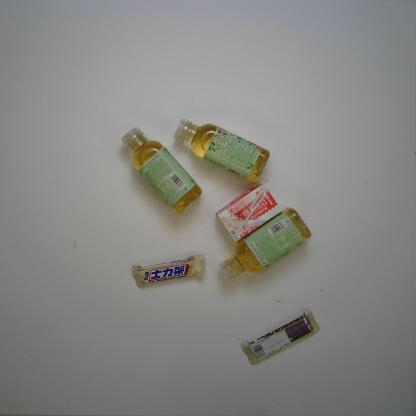Chocolate: (236, 306, 318, 367), (131, 252, 207, 290)
Drink: (117, 123, 206, 217), (216, 206, 314, 284), (171, 116, 270, 183)
Milk: (216, 181, 284, 241)
